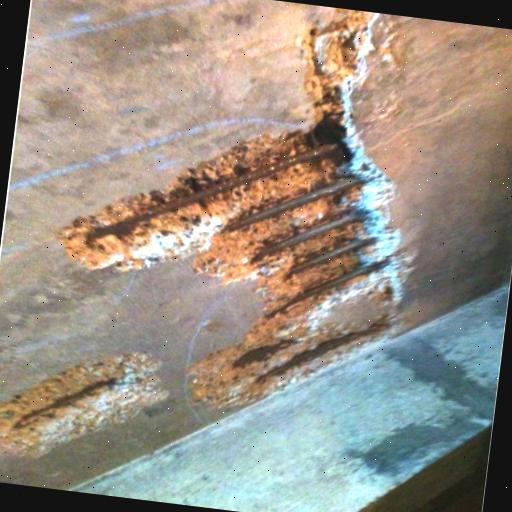spalling: (63, 8, 403, 408), (0, 351, 164, 454)
